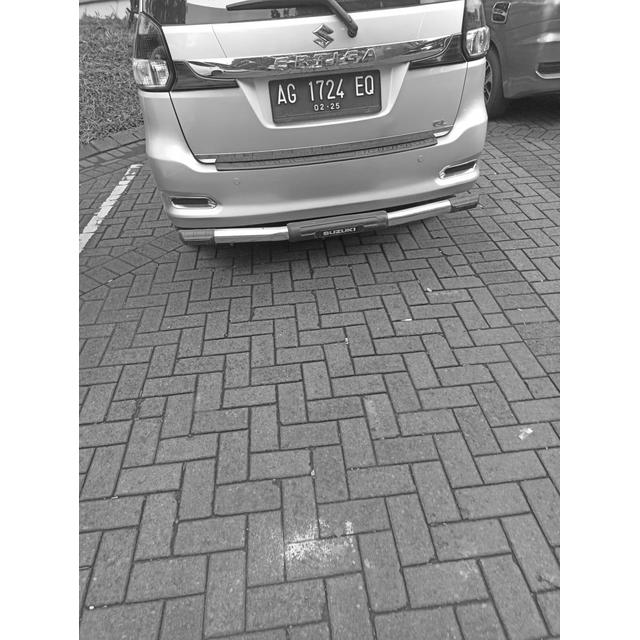license: (276, 69, 379, 115)
